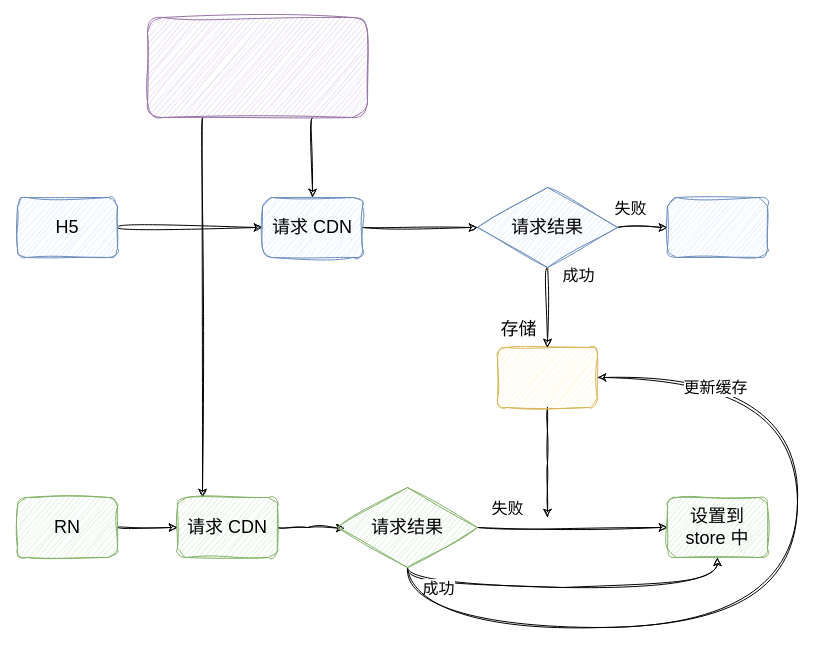
The diagram is 816 pixels wide and 646 high, and some of its shapes have lost their labels. The shapes that lost their labels are listed below. From the top down, each one's box as (x1, y1, x2, y2) in pixels, then its label:
(146, 16, 368, 118): CDN 资源
(666, 196, 768, 258): 不做处理
(496, 346, 598, 408): Data Store
